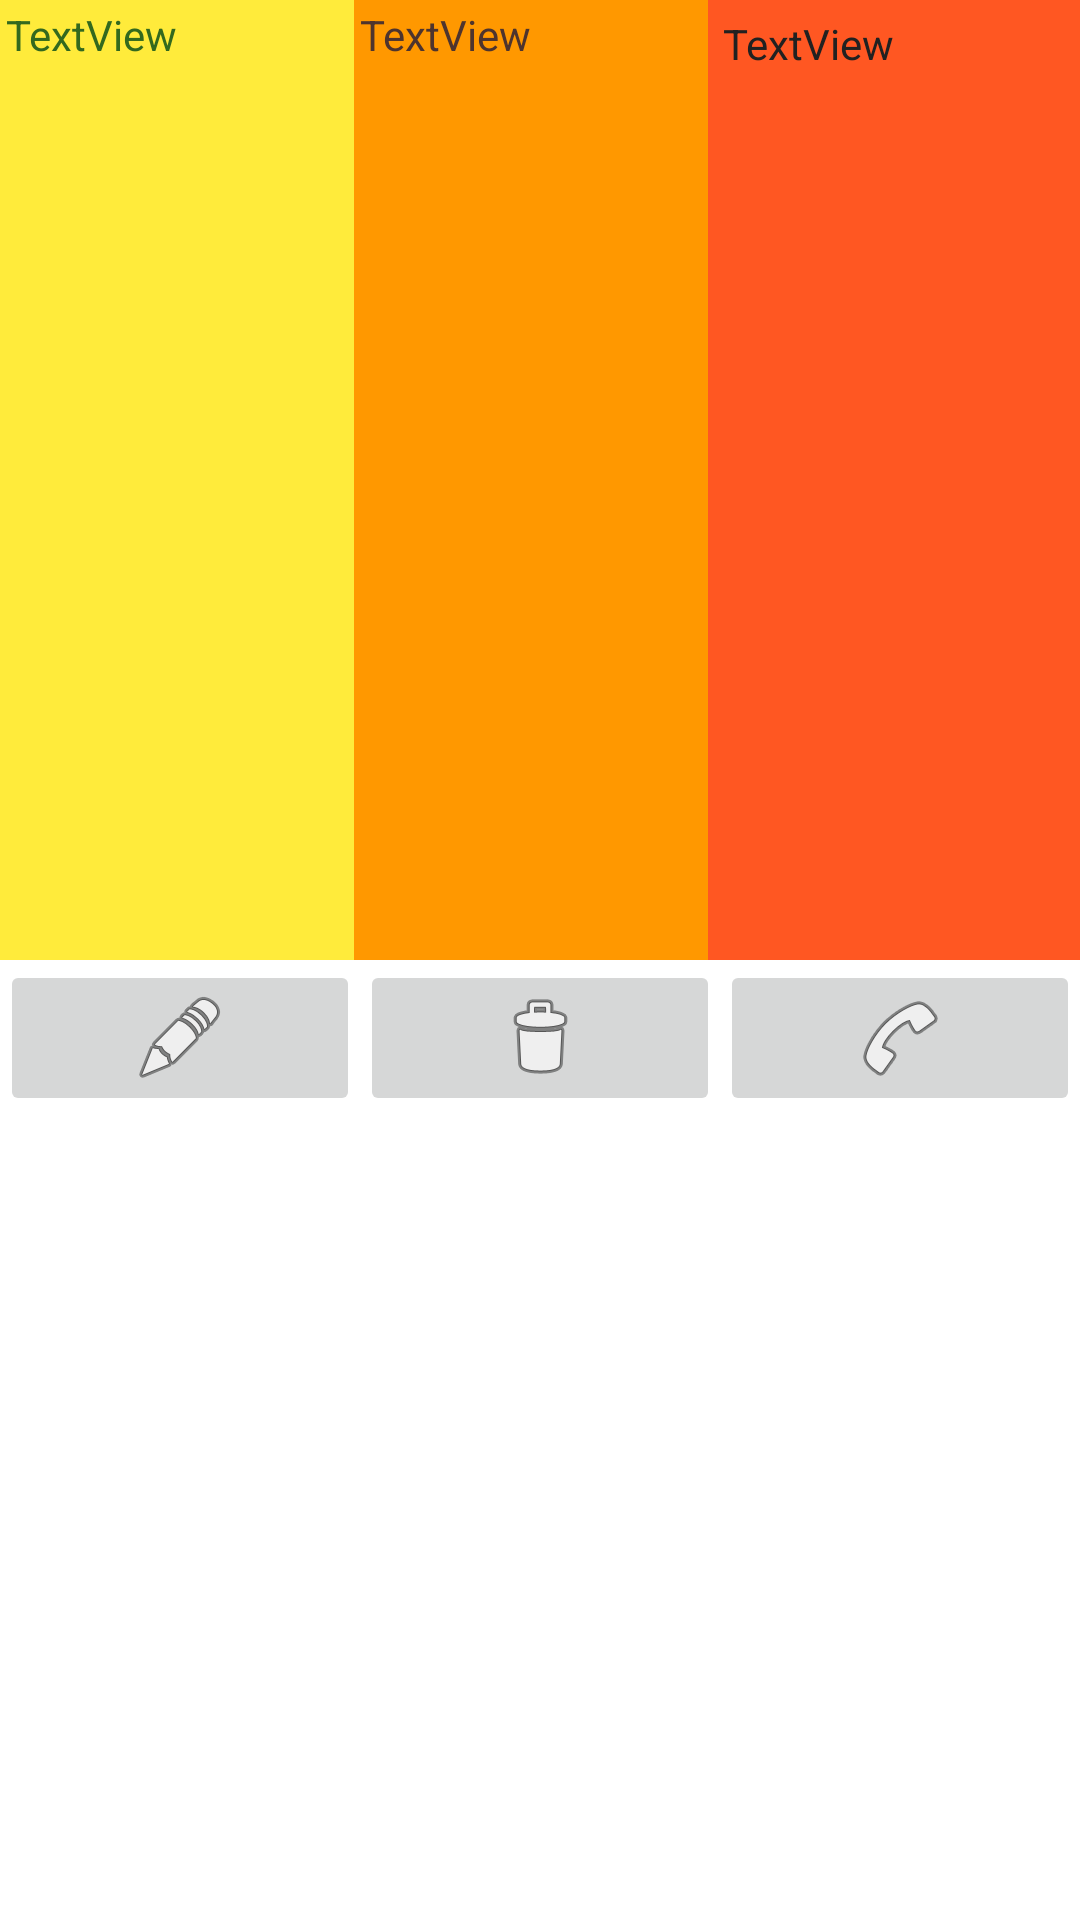

Where icons sit on this 1080px×1920px app screen, as detection(x1, y1, x2, y2):
call: detection(732, 978, 1068, 1098)
delete: detection(372, 978, 708, 1098)
edit: detection(12, 978, 348, 1098)
